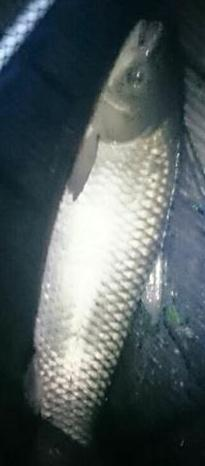Indo-Pacific Tarpon: (23, 15, 185, 466)
